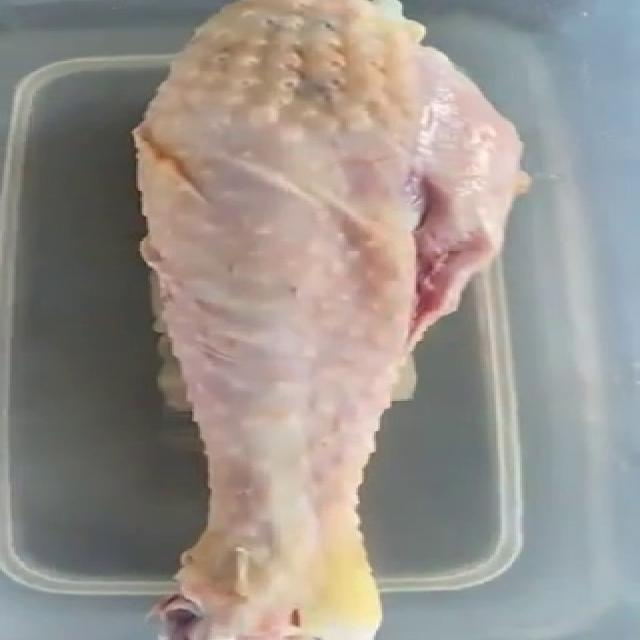chicken: (130, 0, 531, 639)
